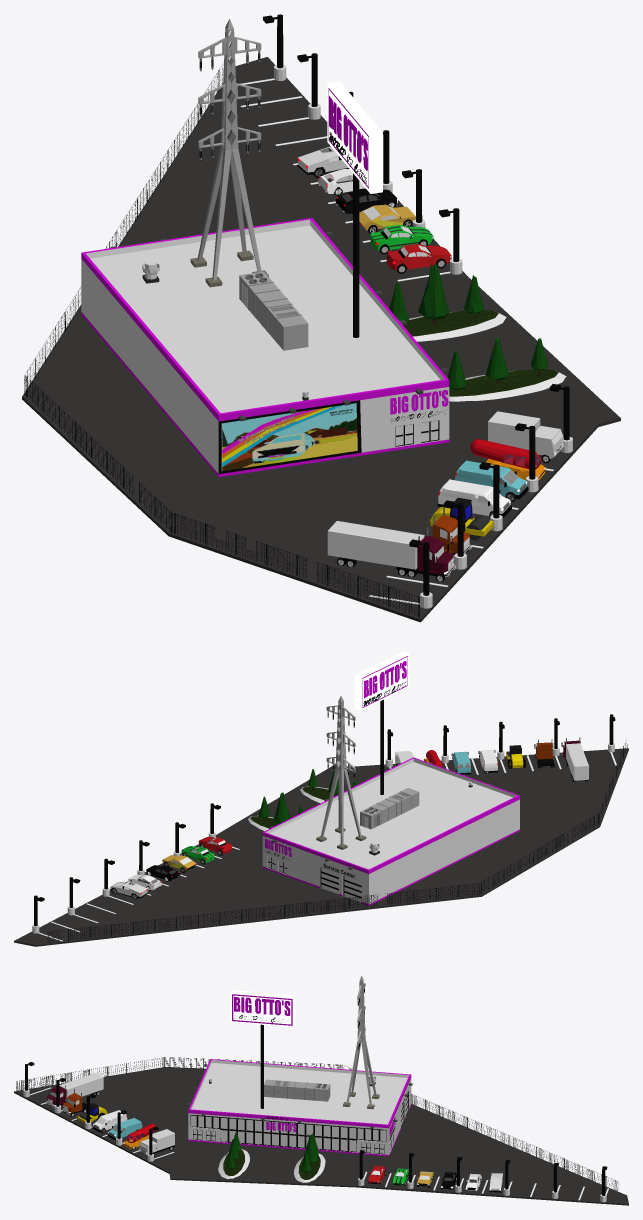
The model's file is Car Dealership.glb.
The picture shows the model from 3 angles, top to bottom: view 1: azimuth 30°, elevation 25°; view 2: azimuth 150°, elevation 25°; view 3: azimuth 270°, elevation 25°; orthographic projection. The views are drawn at different scales.
Visible parts, largest first — view 1: Ground, Roof, Ext Walls, Cars, Fence, Tower, Light Pole, Sign, Medians, Leaves, RTU, Floor (+2 smaller); view 2: Ground, Roof, Ext Walls, Cars, Fence, Sign, Light Pole, Tower, RTU, Service Doors, Leaves, Medians (+2 smaller); view 3: Ground, Roof, Cars, Front Window, Ext Walls, Sign, Fence, Light Pole, RTU, Tower, Medians, Leaves (+4 smaller).
Boxes of the visible parts, bbox=[...] form: Ground: bbox=[22, 57, 620, 622]; Roof: bbox=[90, 225, 440, 413]; Ext Walls: bbox=[81, 218, 449, 473]; Cars: bbox=[297, 146, 563, 581]; Fence: bbox=[24, 60, 419, 617]; Tower: bbox=[197, 18, 261, 280]; Light Pole: bbox=[263, 14, 572, 608]; Sign: bbox=[327, 81, 382, 337]; Medians: bbox=[404, 310, 566, 401]; Leaves: bbox=[389, 263, 547, 390]; RTU: bbox=[239, 271, 308, 350]; Floor: bbox=[81, 312, 449, 476]; Ground: bbox=[14, 748, 628, 946]; Roof: bbox=[269, 762, 512, 869]; Ext Walls: bbox=[262, 757, 519, 904]; Cars: bbox=[110, 737, 588, 899]; Fence: bbox=[47, 742, 627, 942]; Sign: bbox=[355, 651, 409, 794]; Light Pole: bbox=[32, 714, 615, 933]; Tower: bbox=[320, 695, 361, 845]; RTU: bbox=[360, 788, 419, 829]; Service Doors: bbox=[320, 867, 361, 902]; Leaves: bbox=[258, 769, 356, 823]; Medians: bbox=[248, 786, 337, 831]; Ground: bbox=[14, 1067, 628, 1205]; Roof: bbox=[191, 1063, 407, 1124]; Cars: bbox=[46, 1073, 503, 1192]; Front Window: bbox=[190, 1114, 386, 1152]; Ext Walls: bbox=[188, 1059, 411, 1154]; Sign: bbox=[230, 990, 295, 1108]; Fence: bbox=[16, 1057, 618, 1190]; Light Pole: bbox=[23, 1062, 607, 1202]; RTU: bbox=[264, 1079, 330, 1101]; Tower: bbox=[346, 976, 376, 1105]; Medians: bbox=[218, 1149, 325, 1182]; Leaves: bbox=[226, 1133, 318, 1172].
Bounding box in the file's own units: 60.64 × 33.74 × 115.
160 materials, 3 textured.
